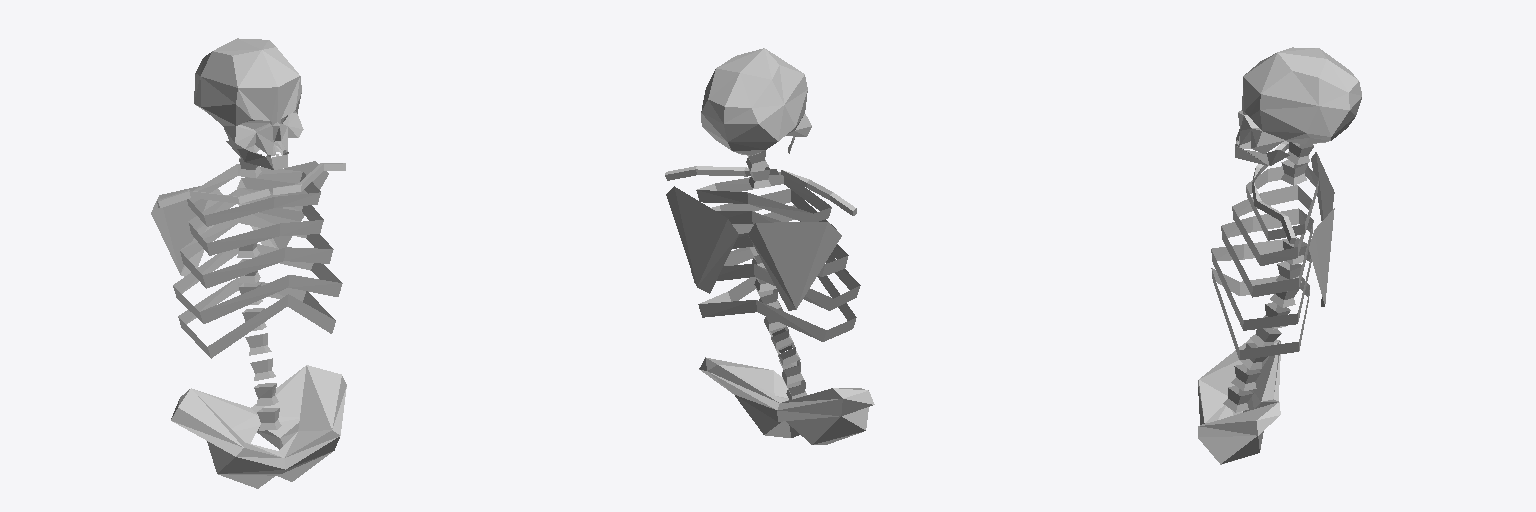
Rendered from newbody2.obj.
3 views of the same model, side by side, from view 1: azimuth 30°, elevation 25°; view 2: azimuth 150°, elevation 25°; view 3: azimuth 270°, elevation 25° (orthographic).
Visible parts, largest first — view 1: polySurface17; view 2: polySurface17; view 3: polySurface17.
Part boxes in pixels (x1,y1,x2,y2): polySurface17: (151, 38, 346, 488); polySurface17: (665, 48, 874, 444); polySurface17: (1198, 47, 1361, 464).
Bounding box in the file's own units: 2 × 4.09 × 1.48.